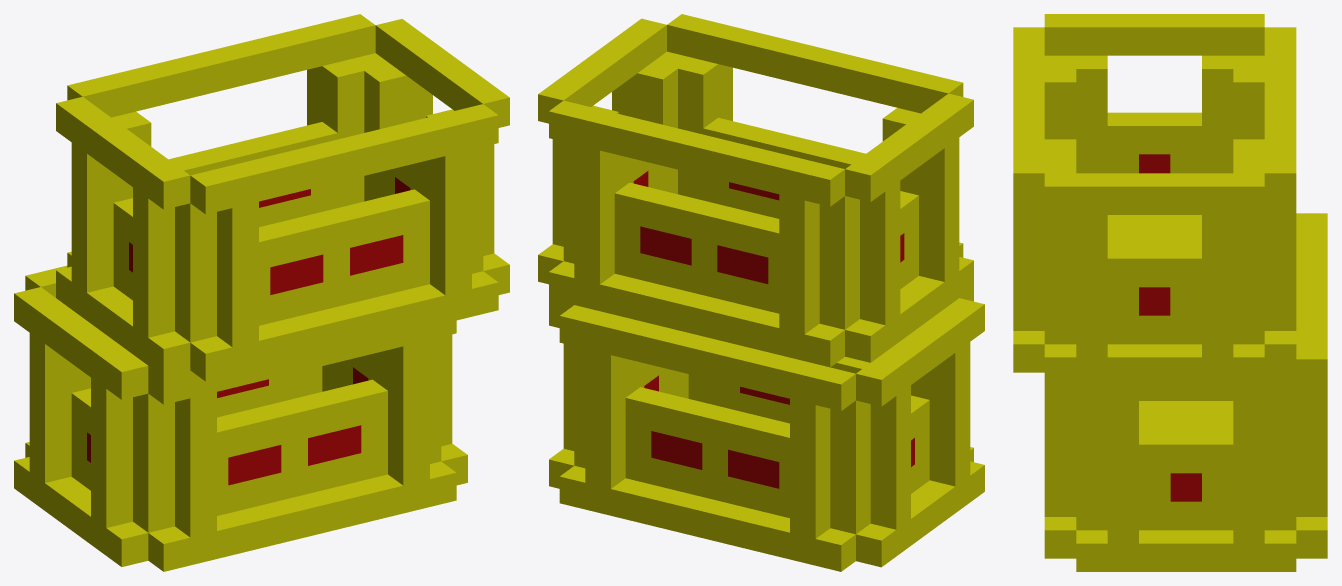
The model's file is crate.glb.
3 views of the same model, side by side, from view 1: azimuth 30°, elevation 25°; view 2: azimuth 150°, elevation 25°; view 3: azimuth 270°, elevation 25° (orthographic). The views are drawn at different scales.
Parts seen in each view (by area): view 1: ObjObject; view 2: ObjObject; view 3: ObjObject.
Part boxes in pixels (bbox=[...]): ObjObject: bbox=[14, 14, 509, 571]; ObjObject: bbox=[538, 14, 984, 571]; ObjObject: bbox=[1013, 14, 1327, 571].
Size of the model in its own units: 1.4 by 1.4 by 1.
1 material, 1 textured.
